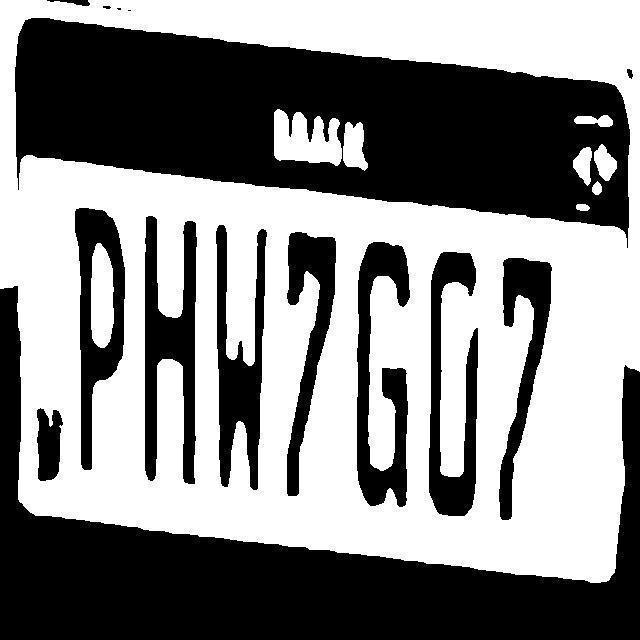0: (421, 240, 484, 524)
7: (272, 220, 356, 513), (491, 251, 561, 538)
g: (347, 229, 420, 519)
h: (132, 206, 203, 504)
p: (66, 194, 144, 496)
w: (210, 217, 278, 509)
